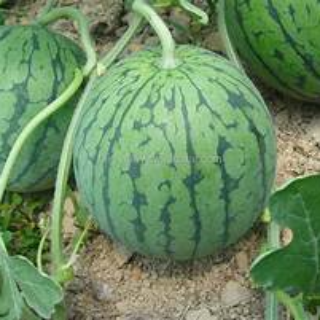dua_hau: (66, 42, 280, 264)
